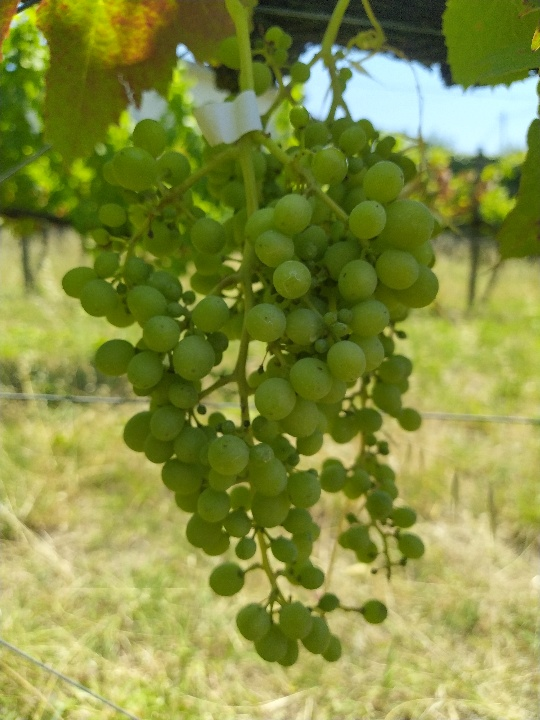grape: (58, 109, 442, 672)
